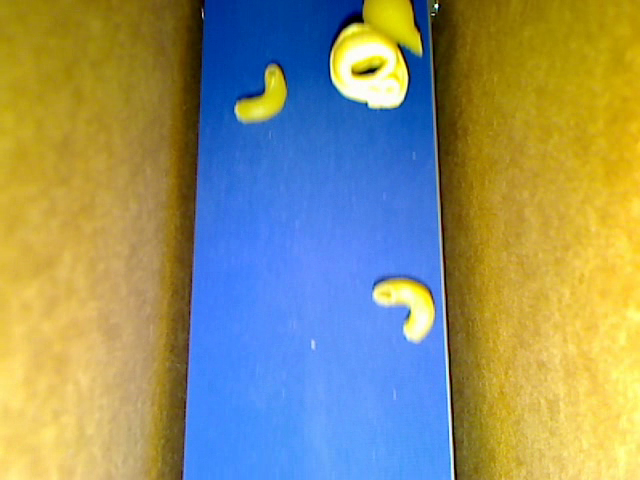elbow: (372, 277, 435, 343), (234, 63, 286, 124)
shell: (361, 1, 422, 56)
tortellini: (330, 23, 408, 109)
